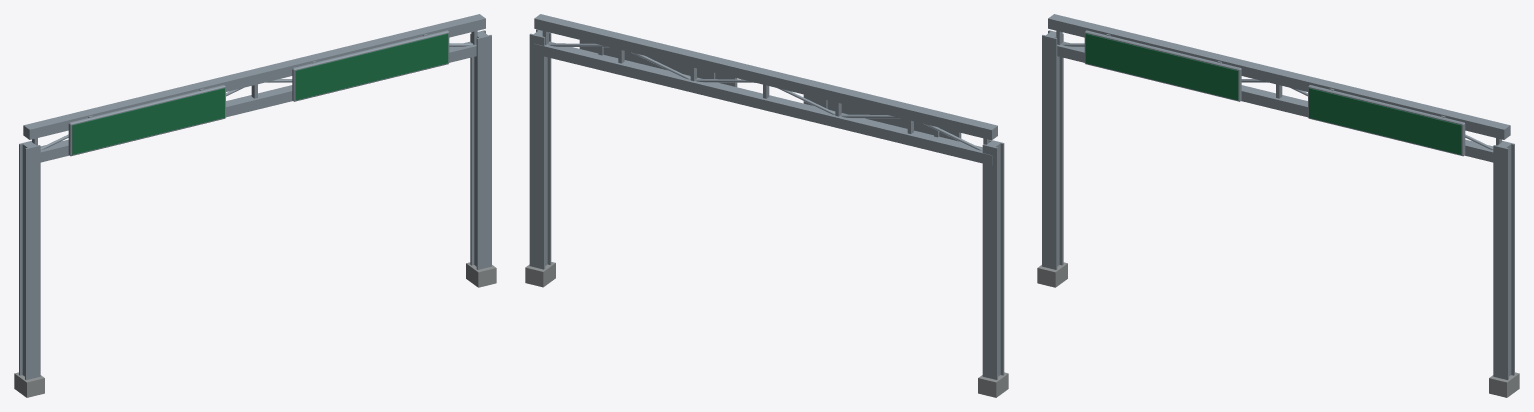
Rendered from sign_gantry.glb.
3 views of the same model, side by side, from view 1: azimuth 30°, elevation 25°; view 2: azimuth 150°, elevation 25°; view 3: azimuth 330°, elevation 25° (orthographic).
Parts seen in each view (by area): view 1: sign_gantry; view 2: sign_gantry; view 3: sign_gantry.
Part boxes in pixels (x1,y1,x2,y2): sign_gantry: (14, 14, 496, 397); sign_gantry: (525, 14, 1008, 397); sign_gantry: (1037, 14, 1519, 397).
Bounding box in the file's own units: 14 × 7.51 × 0.64.
